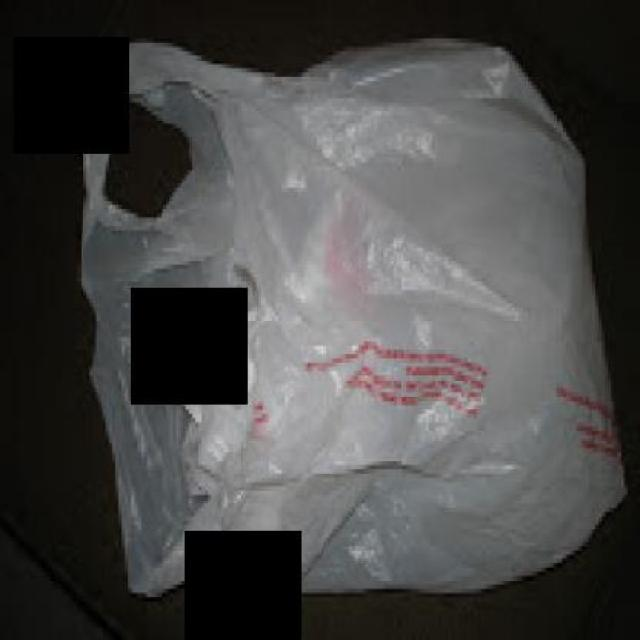plastic bag: (68, 31, 628, 598)
